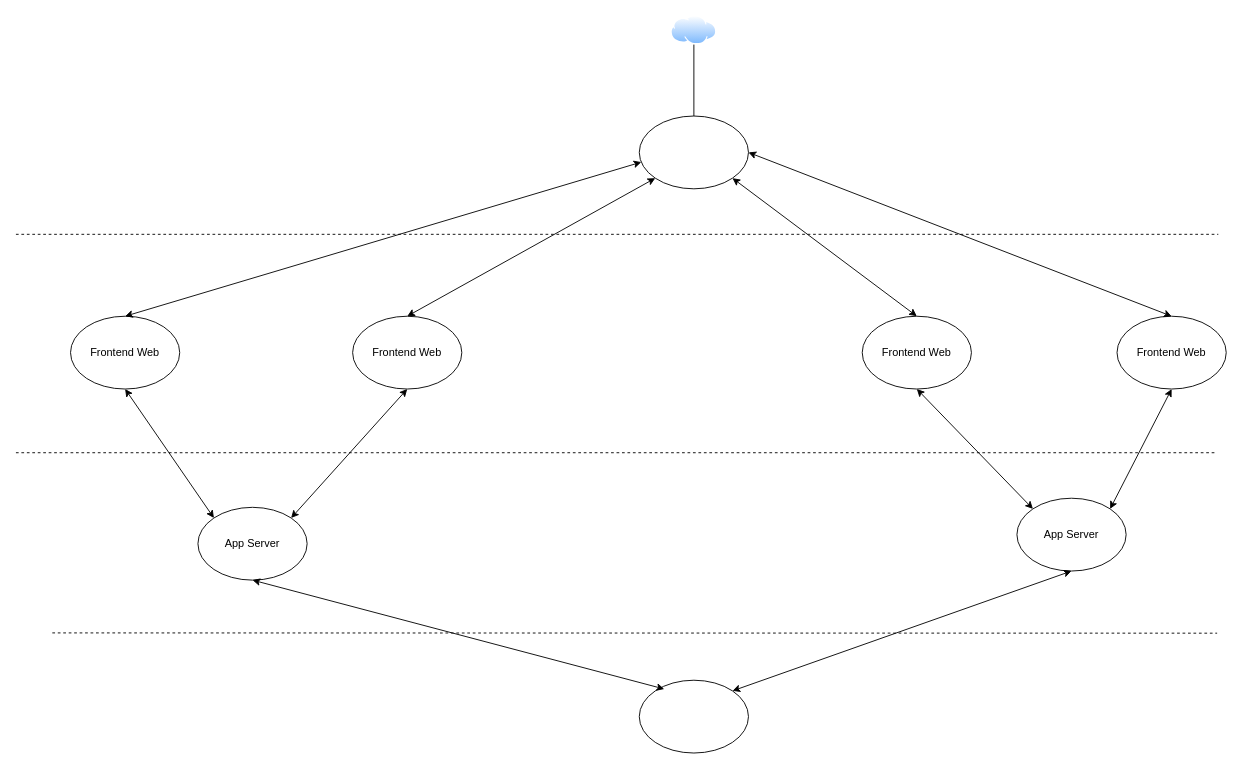
This 1242x769 diagram has some shape labels left out. The centre of each missing label's shape, as x and y in pixels:
"Data Server" goes at [693,716].
"Load Balancer" goes at [693,152].
